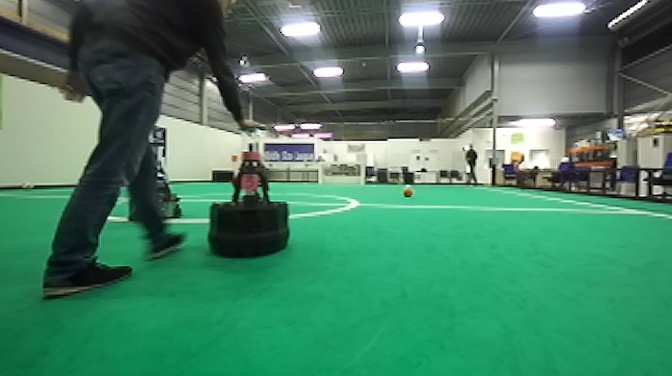ball: (399, 184, 418, 200)
goal: (317, 160, 367, 187)
goalpost: (316, 160, 325, 185), (360, 162, 366, 186)
human: (35, 1, 271, 306)
robot: (202, 120, 295, 265), (135, 136, 186, 222)
